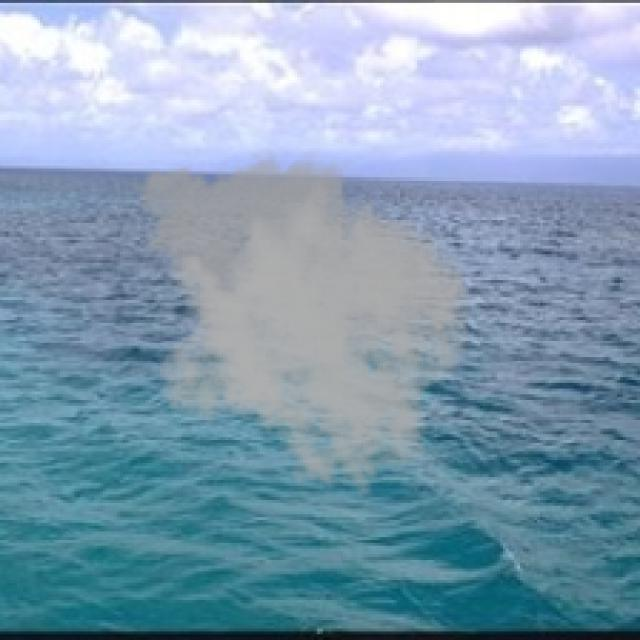smoke: (123, 146, 471, 500)
